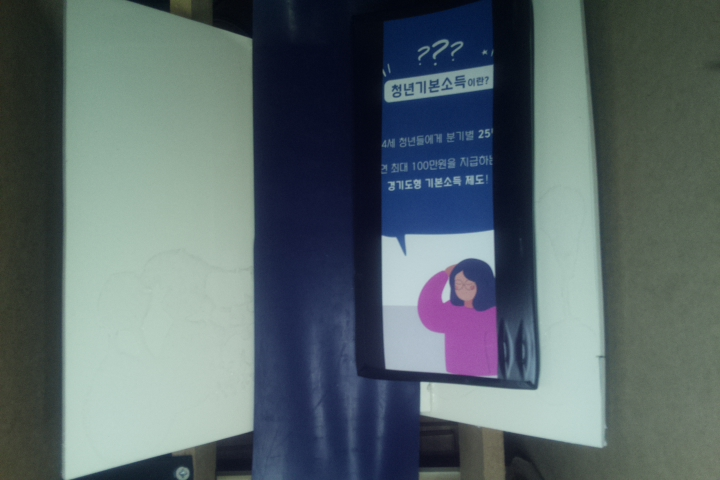book: (356, 1, 536, 389)
